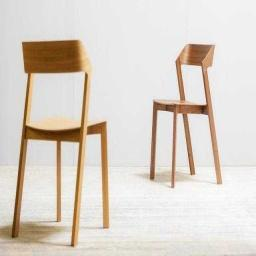Chair: (12, 41, 110, 247), (151, 43, 222, 186)
